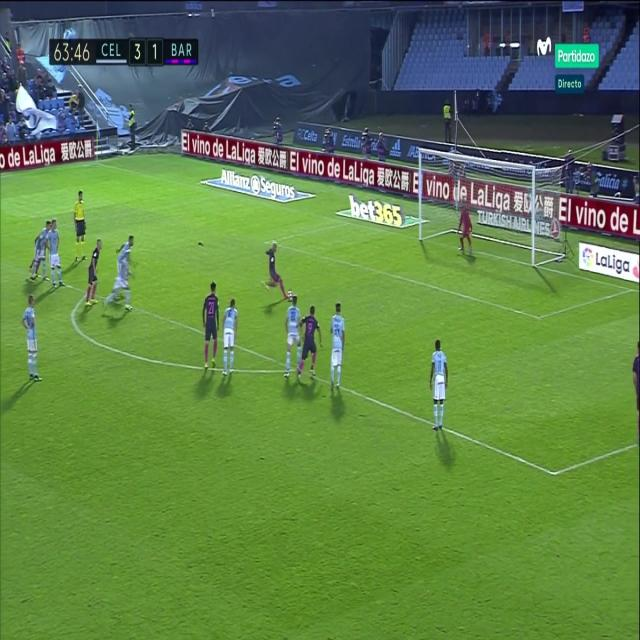Ball: (287, 288, 294, 304)
Goalkeeper: (455, 201, 474, 256)
Player: (102, 233, 136, 320), (428, 338, 451, 438), (199, 281, 222, 371), (20, 293, 42, 385), (298, 304, 324, 372), (329, 300, 347, 398), (282, 295, 302, 381), (82, 236, 103, 312), (263, 239, 289, 299), (221, 297, 240, 379), (46, 217, 66, 292), (29, 219, 50, 289), (72, 189, 87, 264)
